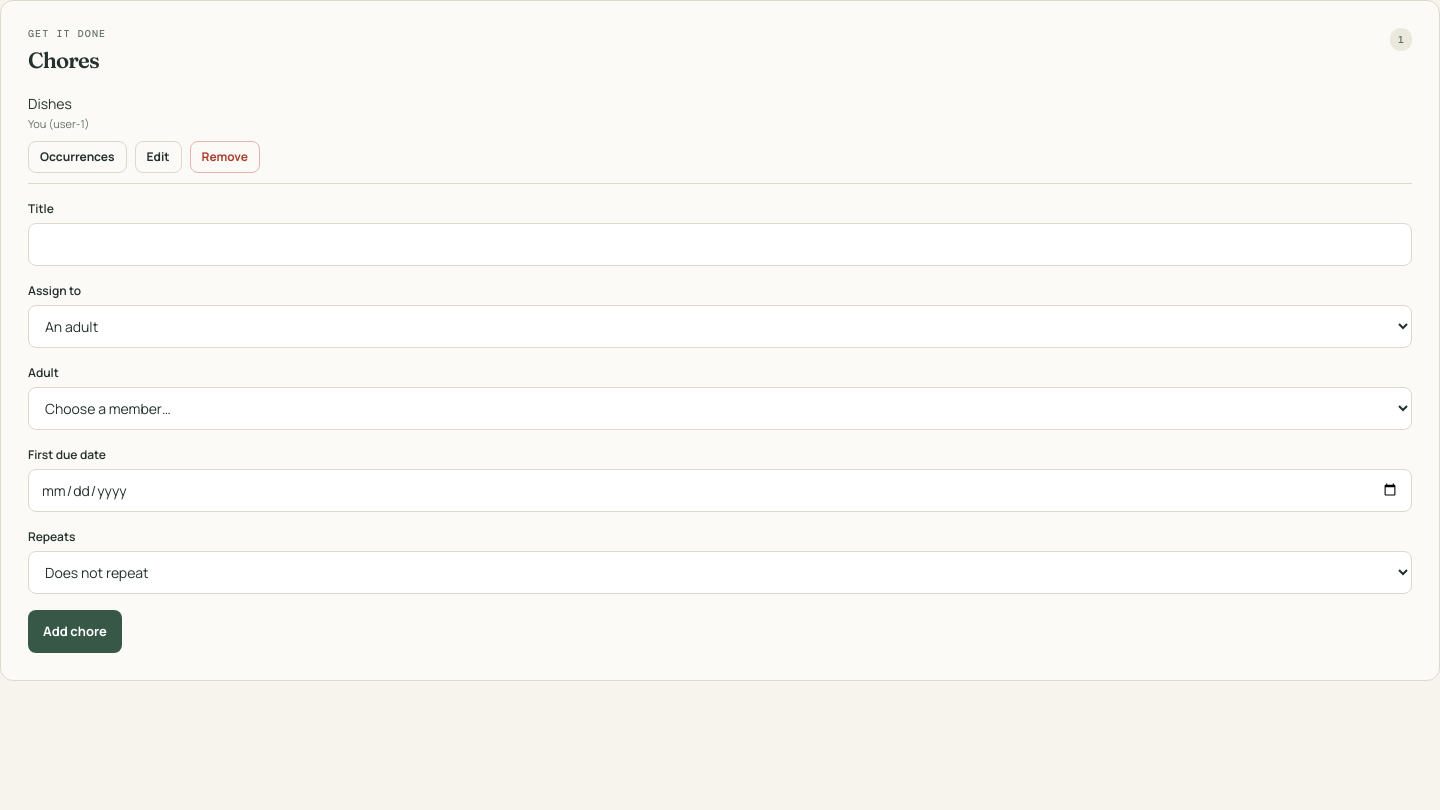
Test: ChoresPanel › completes a pending occurrence and refreshes the occurrence list
What coordinates should you click on to do the following:
click the button "Occurrences"
I would click on:
 (77, 156)
Its box is [28,140,126,172].
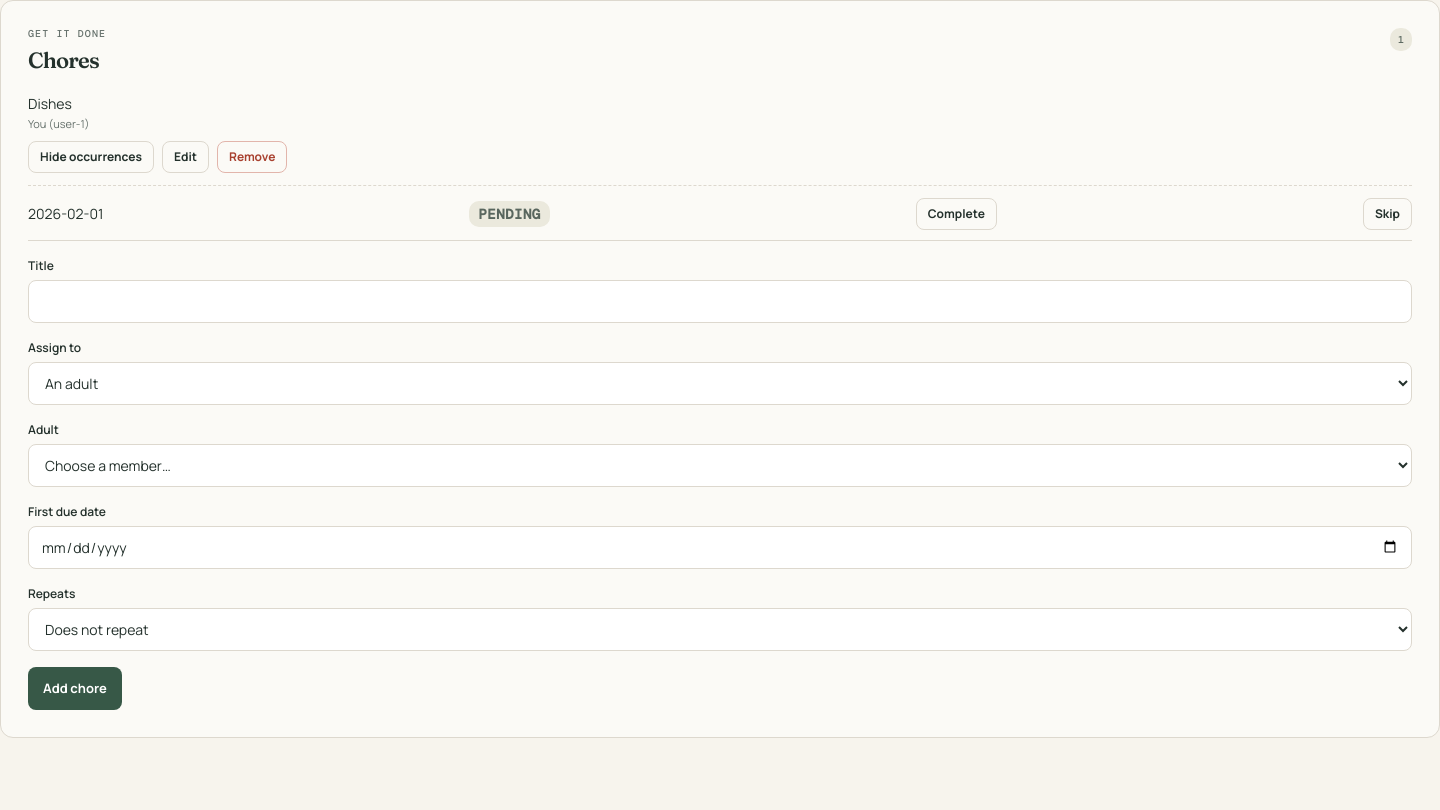
Expected: the text "2026-02-01" is shown, [28,203,104,224]
What coordinates should you click on to do the following:
click the button "Complete"
I would click on:
 (956, 214)
Its box is [916,198,997,230].
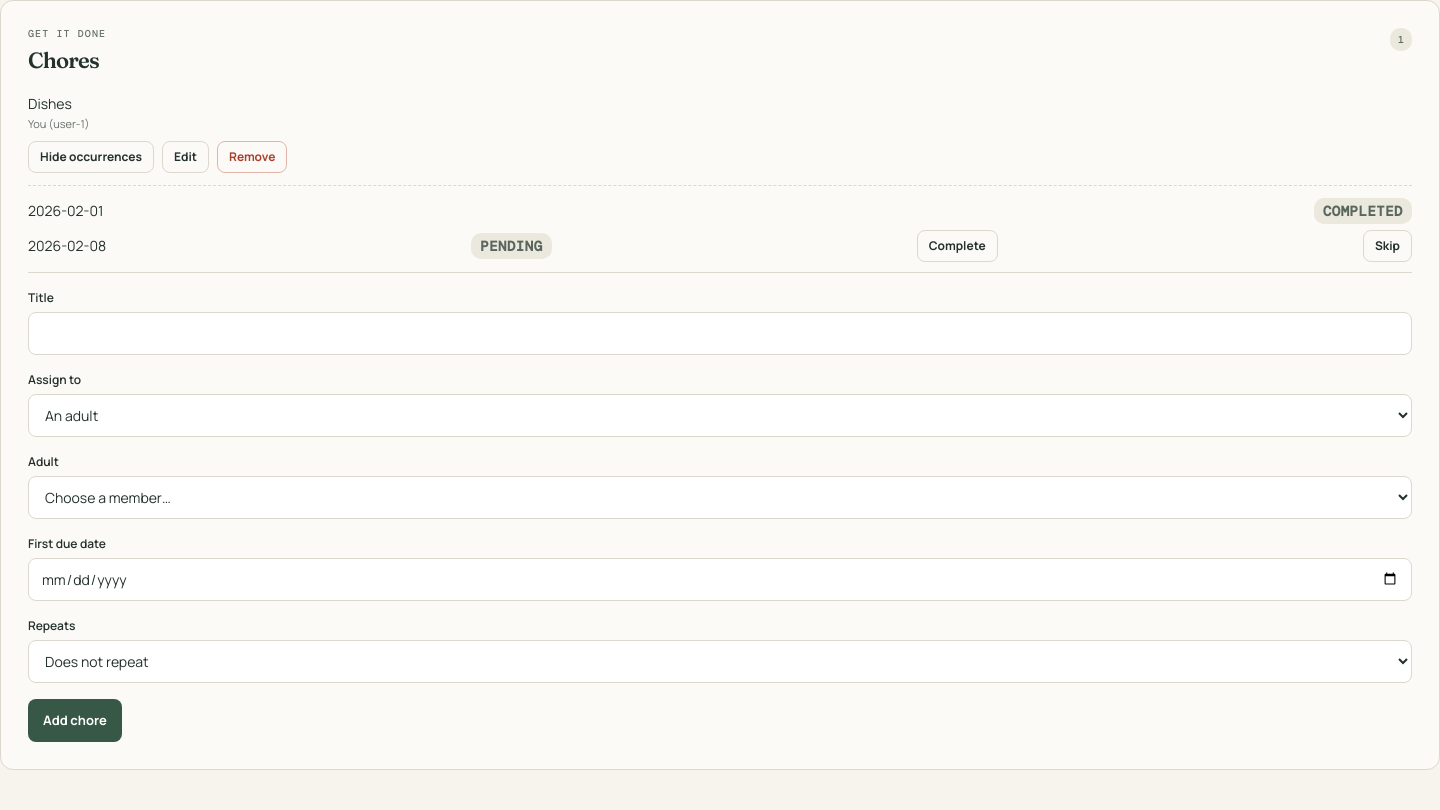
Expected: the text "2026-02-08" is shown, [28,235,106,256]
